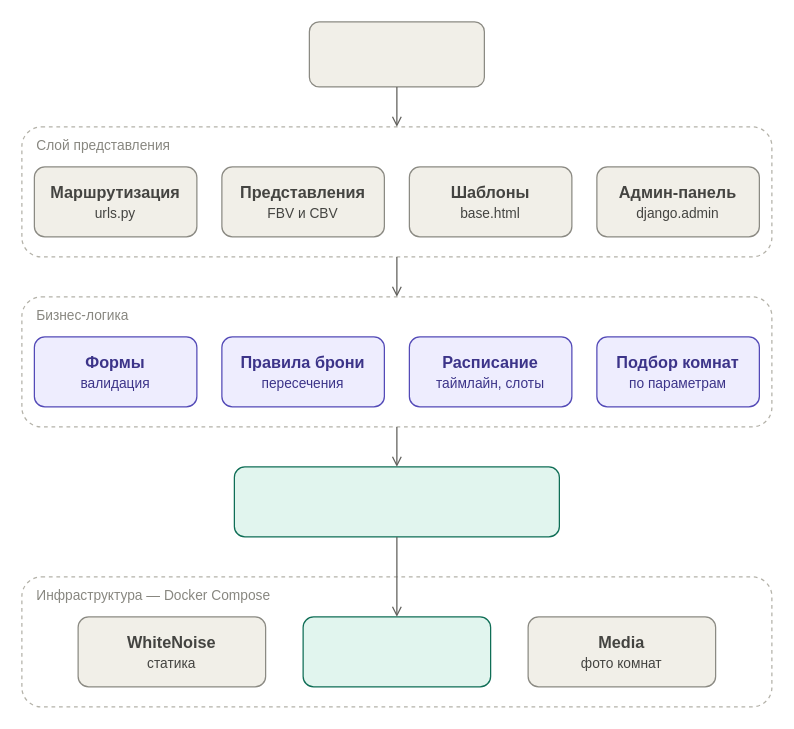
The diagram is 794 pixels wide and 729 high, and some of its shapes have lost their labels. The centre of each missing label's shape, as x and y in pixels:
Django ORM User, Room, Equipment, Booking: the point at 396,501
PostgreSQL CHECK, EXCLUSION: the point at 396,651
Браузер Bootstrap 5: the point at 396,54
